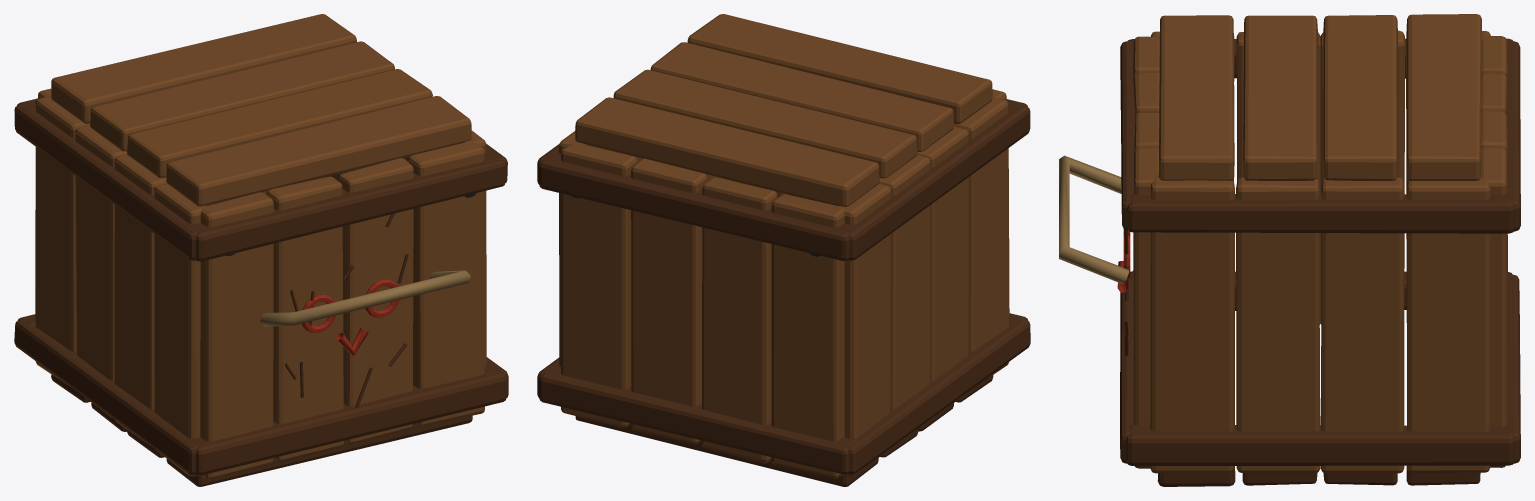
The model's file is crate_destructible_intact.glb.
3 views of the same model, side by side, from view 1: azimuth 30°, elevation 25°; view 2: azimuth 150°, elevation 25°; view 3: azimuth 270°, elevation 25° (orthographic). The views are drawn at different scales.
Visible parts, largest first — view 1: CrateIntactFrontBoard, CrateIntactLidBoard, CrateIntactFrontBoard.003, CrateIntactFrontBoard.001, CrateIntactFrontBoard.002, CrateIntactLidBoard.003, CrateIntactLidBoard.001, CrateIntactLidBoard.002, CrateIntactRail, CrateIntactRail.001, CrateIntactSideBoard, CrateIntactSideBoard.003 (+8 smaller); view 2: CrateIntactFrontBoard.004, CrateIntactLidBoard.003, CrateIntactFrontBoard.006, CrateIntactFrontBoard.005, CrateIntactFrontBoard.007, CrateIntactLidBoard, CrateIntactLidBoard.002, CrateIntactLidBoard.001, CrateIntactRail.003, CrateIntactRail.002, CrateIntactSideBoard.003, CrateIntactSideBoard (+6 smaller); view 3: CrateIntactSideBoard.004, CrateIntactSideBoard.006, CrateIntactSideBoard.005, CrateIntactSideBoard.007, CrateIntactRail.006, CrateIntactRail.007, CrateIntactLidBoard.003, CrateIntactLidBoard, CrateIntactLidBoard.001, CrateIntactLidBoard.002, CrateIntactFrontBoard.007, CrateIntactFrontBoard.003 (+18 smaller).
Part boxes in pixels (bbox=[...]): CrateIntactFrontBoard: bbox=[200, 192, 273, 480]; CrateIntactLidBoard: bbox=[166, 96, 471, 206]; CrateIntactFrontBoard.003: bbox=[408, 142, 484, 425]; CrateIntactFrontBoard.001: bbox=[266, 176, 343, 461]; CrateIntactFrontBoard.002: bbox=[339, 158, 413, 444]; CrateIntactLidBoard.003: bbox=[51, 14, 356, 123]; CrateIntactLidBoard.001: bbox=[127, 69, 432, 177]; CrateIntactLidBoard.002: bbox=[90, 41, 394, 151]; CrateIntactRail: bbox=[195, 371, 506, 475]; CrateIntactRail.001: bbox=[193, 159, 505, 261]; CrateIntactSideBoard: bbox=[154, 183, 206, 476]; CrateIntactSideBoard.003: bbox=[35, 96, 89, 387]; CrateIntactFrontBoard.004: bbox=[771, 194, 844, 478]; CrateIntactLidBoard.003: bbox=[575, 97, 879, 206]; CrateIntactFrontBoard.006: bbox=[631, 158, 707, 443]; CrateIntactFrontBoard.005: bbox=[701, 177, 777, 463]; CrateIntactFrontBoard.007: bbox=[561, 143, 637, 427]; CrateIntactLidBoard: bbox=[687, 14, 992, 124]; CrateIntactLidBoard.002: bbox=[613, 69, 917, 178]; CrateIntactLidBoard.001: bbox=[650, 42, 953, 151]; CrateIntactRail.003: bbox=[539, 153, 854, 260]; CrateIntactRail.002: bbox=[539, 372, 857, 474]; CrateIntactSideBoard.003: bbox=[838, 183, 891, 476]; CrateIntactSideBoard: bbox=[954, 97, 1009, 388]; CrateIntactSideBoard.004: bbox=[1150, 176, 1234, 473]; CrateIntactSideBoard.006: bbox=[1320, 177, 1404, 473]; CrateIntactSideBoard.005: bbox=[1236, 177, 1320, 472]; CrateIntactSideBoard.007: bbox=[1407, 178, 1490, 473]; CrateIntactRail.006: bbox=[1126, 425, 1514, 465]; CrateIntactRail.007: bbox=[1127, 194, 1514, 233]; CrateIntactLidBoard.003: bbox=[1406, 14, 1481, 180]; CrateIntactLidBoard: bbox=[1158, 15, 1234, 180]; CrateIntactLidBoard.001: bbox=[1243, 15, 1318, 180]; CrateIntactLidBoard.002: bbox=[1323, 15, 1397, 180]; CrateIntactFrontBoard.007: bbox=[1480, 148, 1507, 467]; CrateIntactFrontBoard.003: bbox=[1133, 148, 1158, 468].
Size of the model in its own units: 0.908 by 0.8275 by 1.05.
